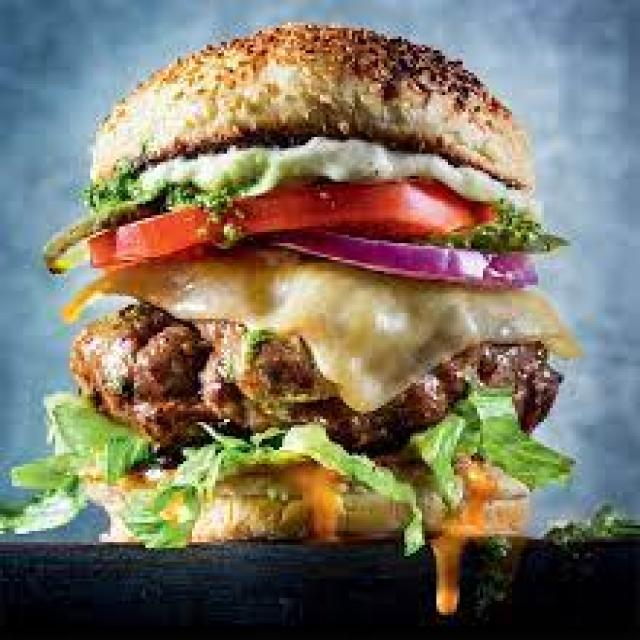Wet Waste: (92, 16, 559, 576)
